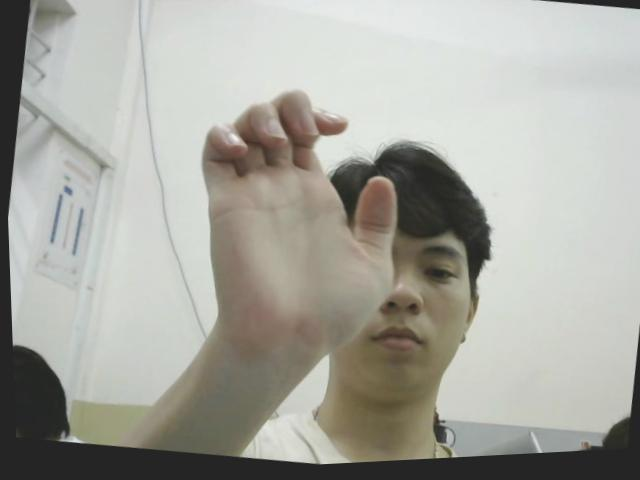E: (168, 71, 420, 372)
